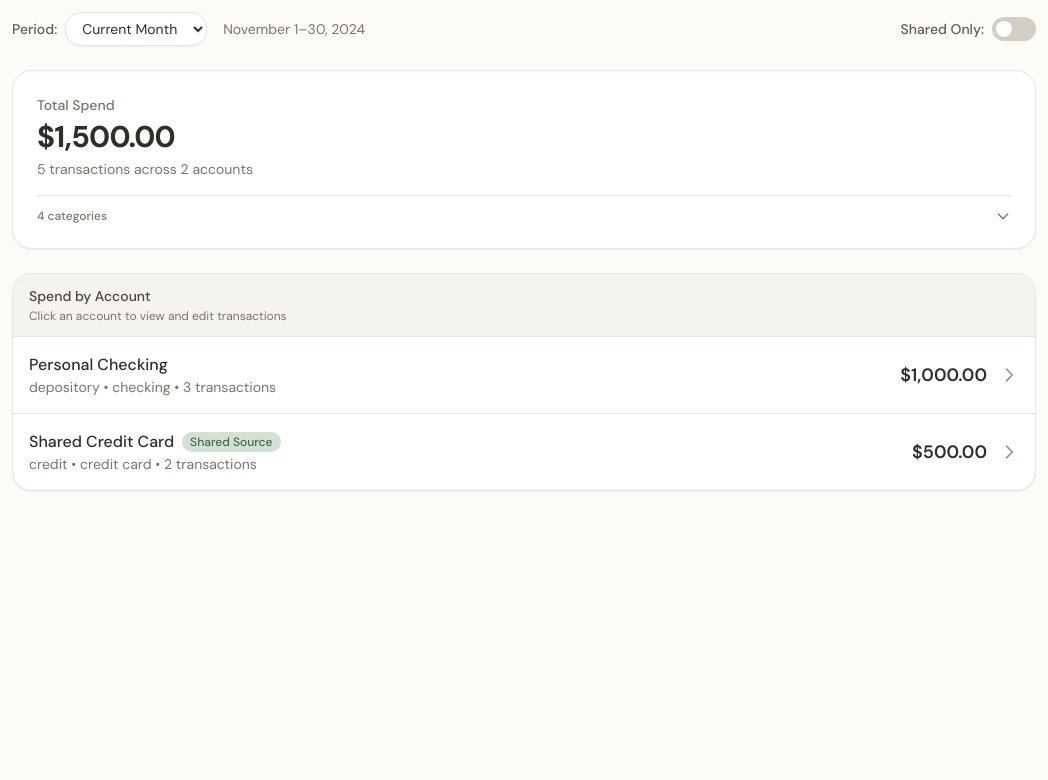
it: SpendSummary › Account Accordion › collapses expanded account when clicked again
Expected: the text "Personal Checking" is shown, [29, 353, 168, 377]
Click the button "Personal Checking": (98, 364) [13, 337, 1035, 413]
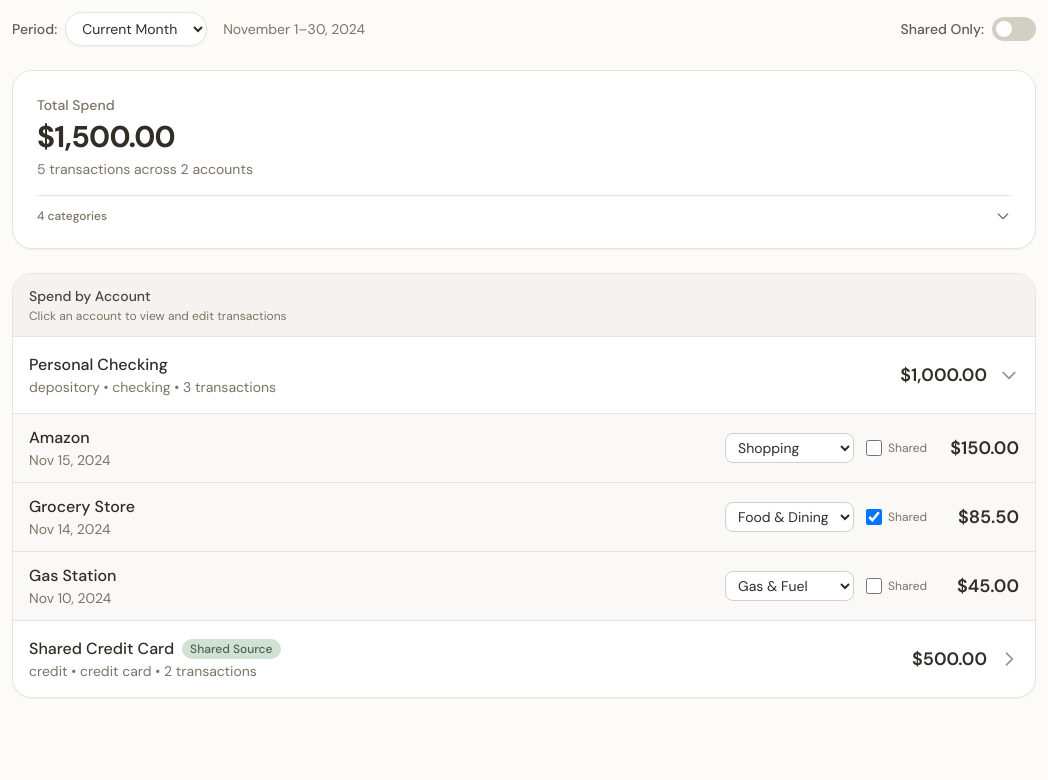
Expected: the text "Amazon" is shown, [29, 427, 90, 448]
Click the button "Personal Checking": (98, 364) [13, 337, 1035, 413]
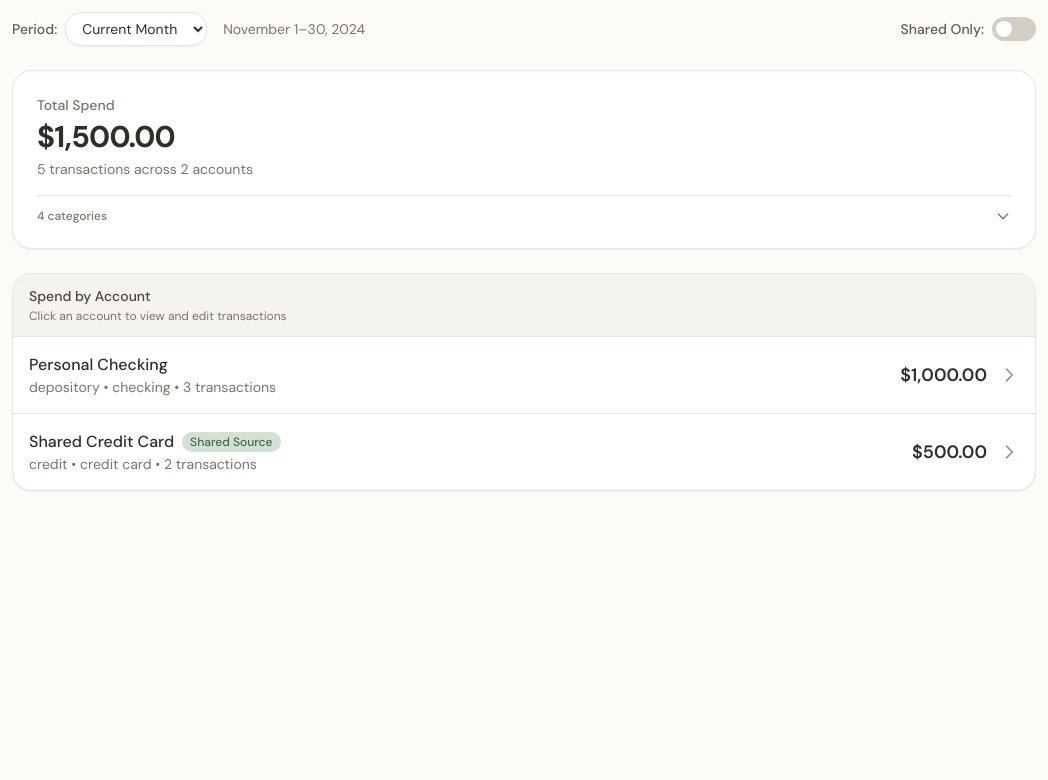
Expected: the button "Personal Checking" is collapsed, [13, 337, 1035, 413]
Expected: the text "Amazon" is gone
